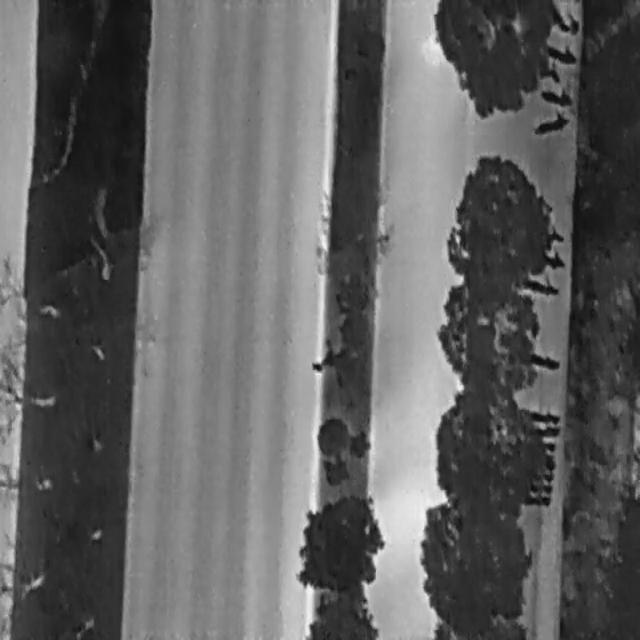Bicycle: (519, 268, 562, 304), (530, 104, 569, 138), (544, 35, 580, 69), (524, 345, 562, 373), (538, 82, 577, 109), (520, 405, 561, 426), (555, 12, 581, 36), (524, 492, 551, 508), (543, 64, 563, 85), (543, 250, 563, 269), (528, 480, 554, 494), (532, 425, 561, 437), (548, 229, 566, 245), (540, 452, 557, 468), (530, 469, 554, 480), (536, 440, 556, 450)
